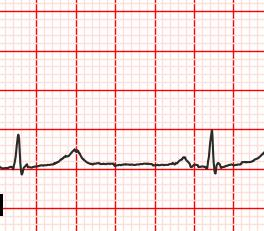LVH: (44, 146, 98, 170)
Poor R Progression: (6, 130, 24, 172)
